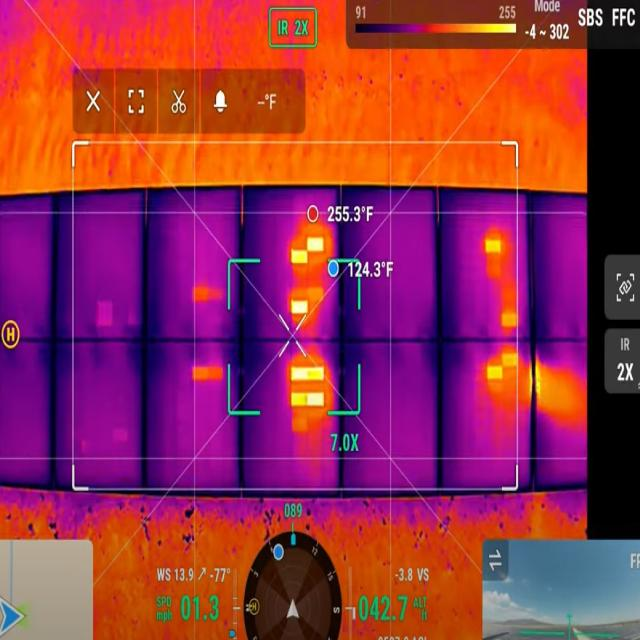hotspot group: (287, 215, 334, 328), (479, 223, 522, 334), (282, 350, 334, 431), (533, 357, 577, 417), (482, 343, 527, 390), (184, 280, 225, 309), (184, 360, 225, 387)
panel with hotspots: (242, 337, 344, 506), (241, 181, 342, 343), (144, 180, 243, 344), (145, 338, 242, 501), (437, 182, 535, 343), (441, 338, 534, 500), (533, 338, 589, 494)
